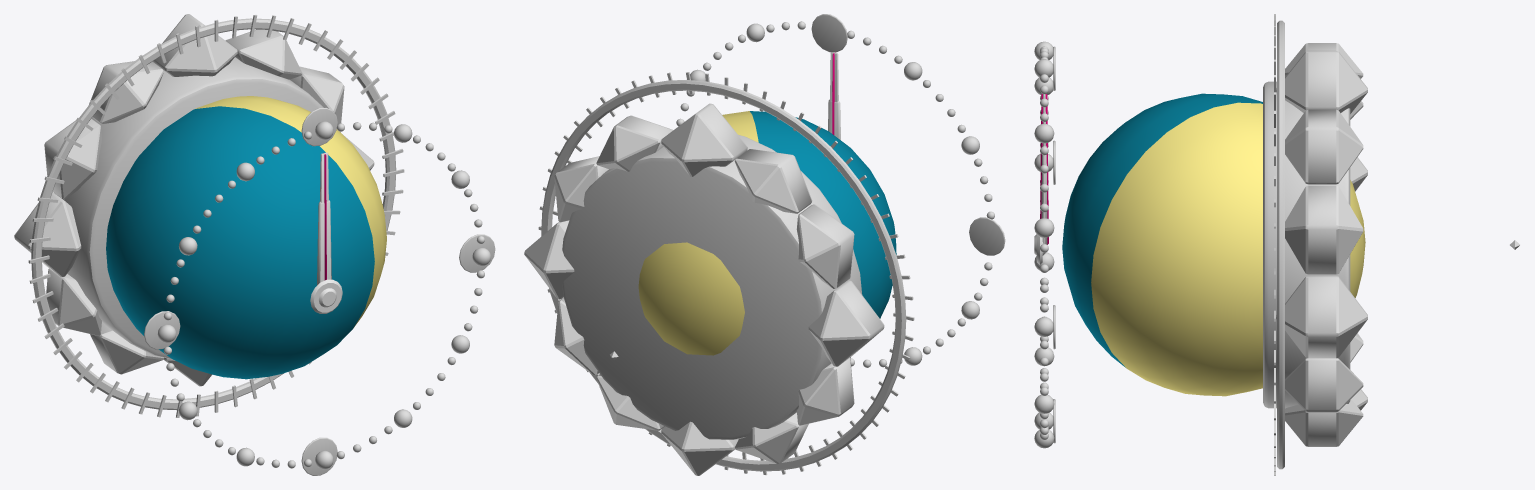
The model's file is clock.glb.
The picture shows the model from 3 angles, left to right: view 1: azimuth 30°, elevation 25°; view 2: azimuth 150°, elevation 25°; view 3: azimuth 270°, elevation 25°; orthographic projection. The views are drawn at different scales.
Parts seen in each view (by area): view 1: Sphere, Cylinder (×6), Tube, Sphere.1, Extrude 9, Extrude 0, Extrude.1 Instance.1 10, Extrude.1 11, Extrude.1 Instance.1 1, Extrude.1 8, Extrude.1 Instance.1 7, Extrude.1 2 (+1 smaller); view 2: Cylinder (×3), Sphere.1, Tube, Sphere, Extrude 9, Extrude 0, Extrude.1 Instance.1 10, Extrude.1 11, Extrude.1 8, Extrude.1 Instance.1 1, Extrude 6, Extrude 3 (+4 smaller); view 3: Sphere.1, Sphere, Cylinder, Extrude.1 2, Extrude 3, Extrude.1 Instance.1 1, Extrude 0, Tube, Extrude.1 Instance.1 4, Extrude.1 5, Extrude.1 11.
Part boxes in pixels (x1,y1,x2,y2): Sphere: [106, 106, 374, 379]; Cylinder (×6): [57, 57, 495, 475]; Tube: [31, 18, 396, 410]; Sphere.1: [195, 96, 386, 327]; Extrude 9: [14, 192, 81, 276]; Extrude 0: [152, 14, 237, 76]; Extrude.1 Instance.1 10: [44, 118, 101, 199]; Extrude.1 11: [89, 61, 163, 123]; Extrude.1 Instance.1 1: [225, 29, 302, 79]; Extrude.1 8: [46, 268, 101, 335]; Extrude.1 Instance.1 7: [90, 323, 163, 374]; Extrude.1 2: [290, 66, 344, 124]; Cylinder (×3): [562, 14, 1005, 439]; Sphere.1: [638, 111, 758, 355]; Tube: [541, 79, 906, 471]; Sphere: [750, 111, 896, 318]; Extrude 9: [808, 280, 884, 366]; Extrude 0: [661, 103, 747, 176]; Extrude.1 Instance.1 10: [796, 204, 854, 288]; Extrude.1 11: [734, 149, 812, 213]; Extrude.1 8: [796, 358, 854, 425]; Extrude.1 Instance.1 1: [596, 115, 673, 171]; Extrude 6: [661, 421, 738, 475]; Extrude 3: [524, 220, 574, 299]; Sphere.1: [1091, 102, 1365, 396]; Sphere: [1062, 93, 1262, 367]; Cylinder: [1263, 81, 1350, 408]; Extrude.1 2: [1285, 185, 1363, 274]; Extrude 3: [1276, 276, 1367, 358]; Extrude.1 Instance.1 1: [1285, 109, 1363, 184]; Extrude 0: [1276, 50, 1367, 113]; Tube: [1277, 20, 1284, 469]; Extrude.1 Instance.1 4: [1285, 358, 1363, 412]; Extrude.1 5: [1285, 399, 1363, 446]; Extrude.1 11: [1285, 43, 1363, 78].
Size of the model in its own units: 414 by 414 by 436.
